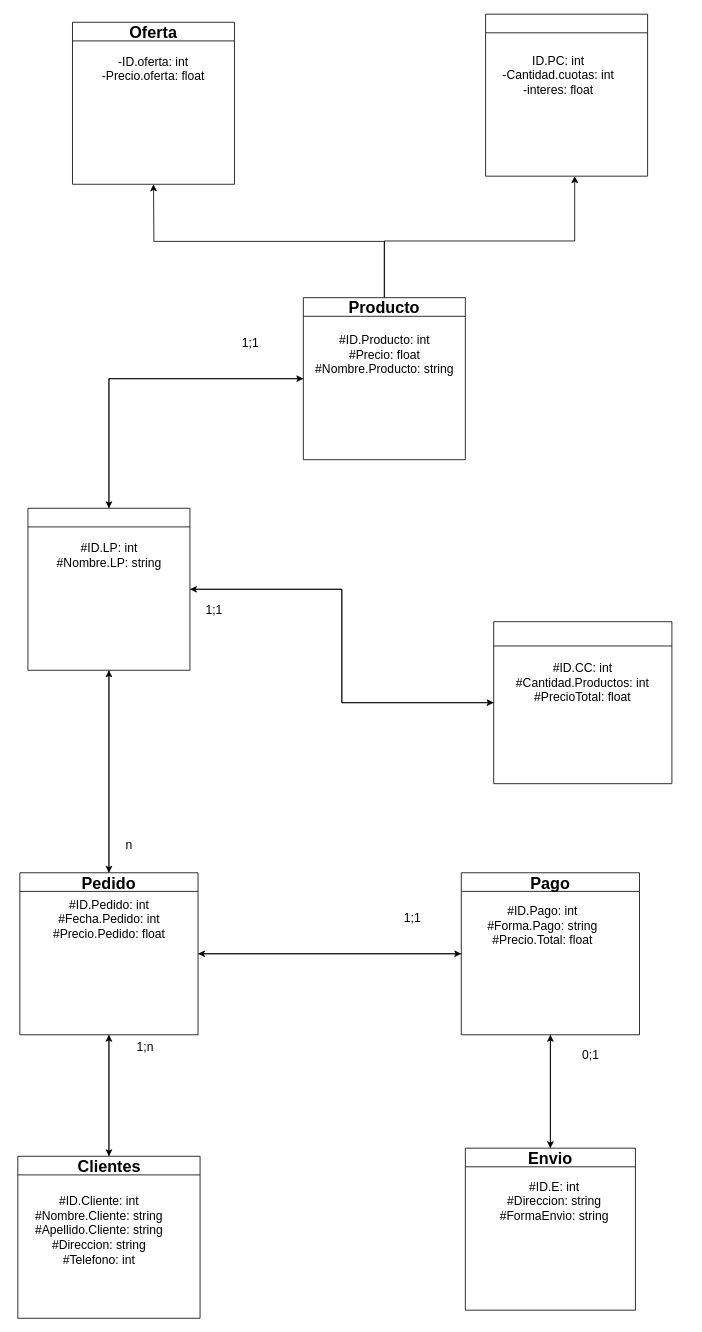
This 702x1332 diagram has some shape labels left out. The box of each missing label's shape, as (x1, y1, x2, y2) in pixels:
Carrito_Compra: (493, 621, 672, 784)
Linea Producto: (27, 507, 190, 670)
Producto en Cuotas: (485, 13, 648, 176)
